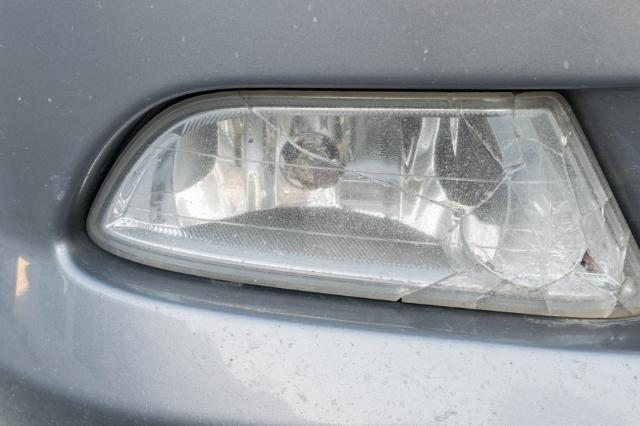Light: (92, 104, 640, 315)
